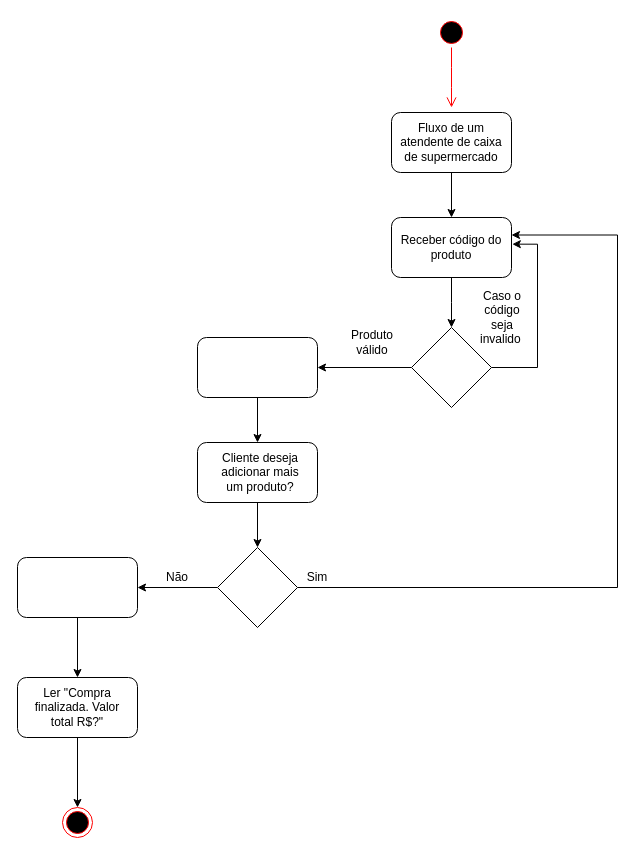
Some shapes in this 643 by 855 pixel diagram are drawn without their labels. Each missing label, with the box of its shape:
Ler "Finalizar compra": (16, 556, 138, 618)
Registrar produto no valor total da compra: (196, 336, 318, 398)
